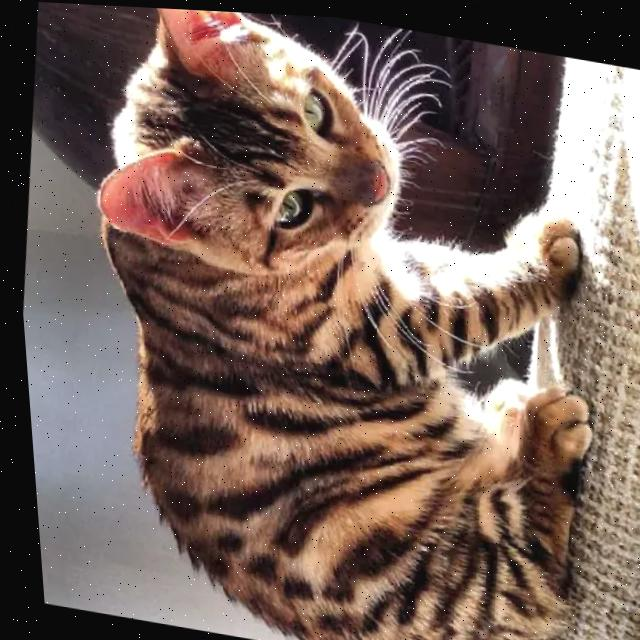Toyger: (24, 1, 640, 640)
